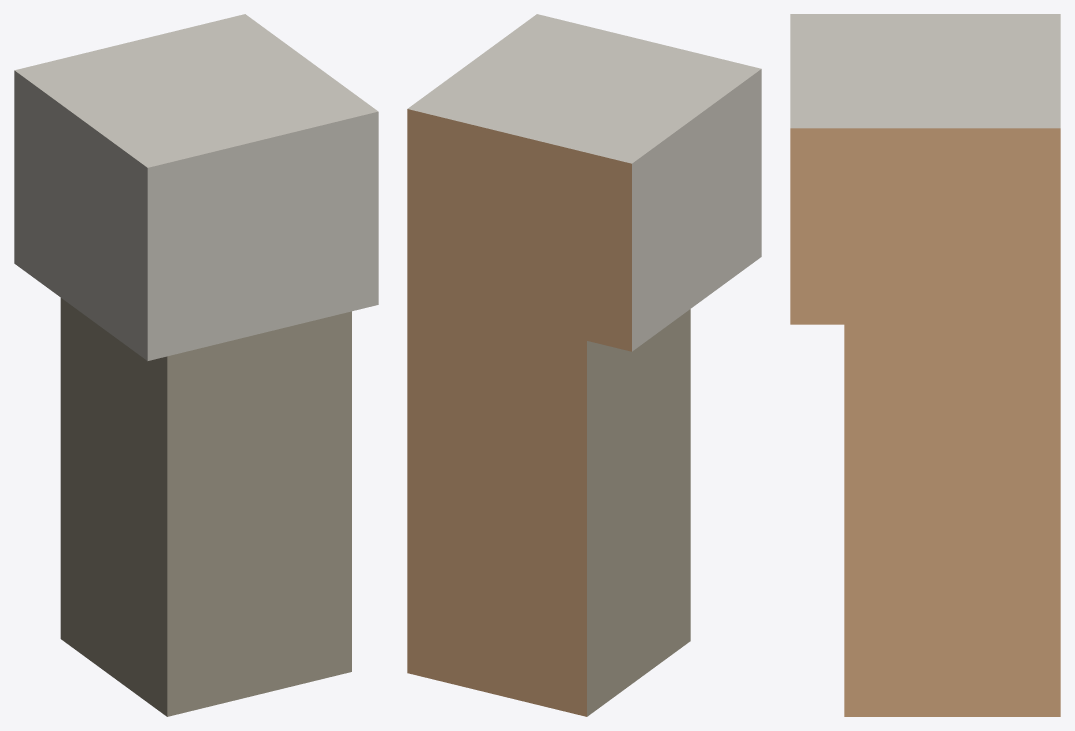
File: Tiered_Retaining_Wall_Corner_Outer_1x1_Top.glb
The picture shows the model from 3 angles, left to right: view 1: azimuth 30°, elevation 25°; view 2: azimuth 150°, elevation 25°; view 3: azimuth 270°, elevation 25°; orthographic projection. The views are drawn at different scales.
Visible parts, largest first — view 1: Tiered_Retaining_Wall_Corner_Outer_1x1_Top; view 2: Tiered_Retaining_Wall_Corner_Outer_1x1_Top; view 3: Tiered_Retaining_Wall_Corner_Outer_1x1_Top.
Part boxes in pixels (x1,y1,x2,y2): Tiered_Retaining_Wall_Corner_Outer_1x1_Top: [14, 14, 378, 716]; Tiered_Retaining_Wall_Corner_Outer_1x1_Top: [407, 14, 761, 716]; Tiered_Retaining_Wall_Corner_Outer_1x1_Top: [790, 14, 1060, 716].
Bounding box in the file's own units: 15.62 × 37.5 × 15.63.
